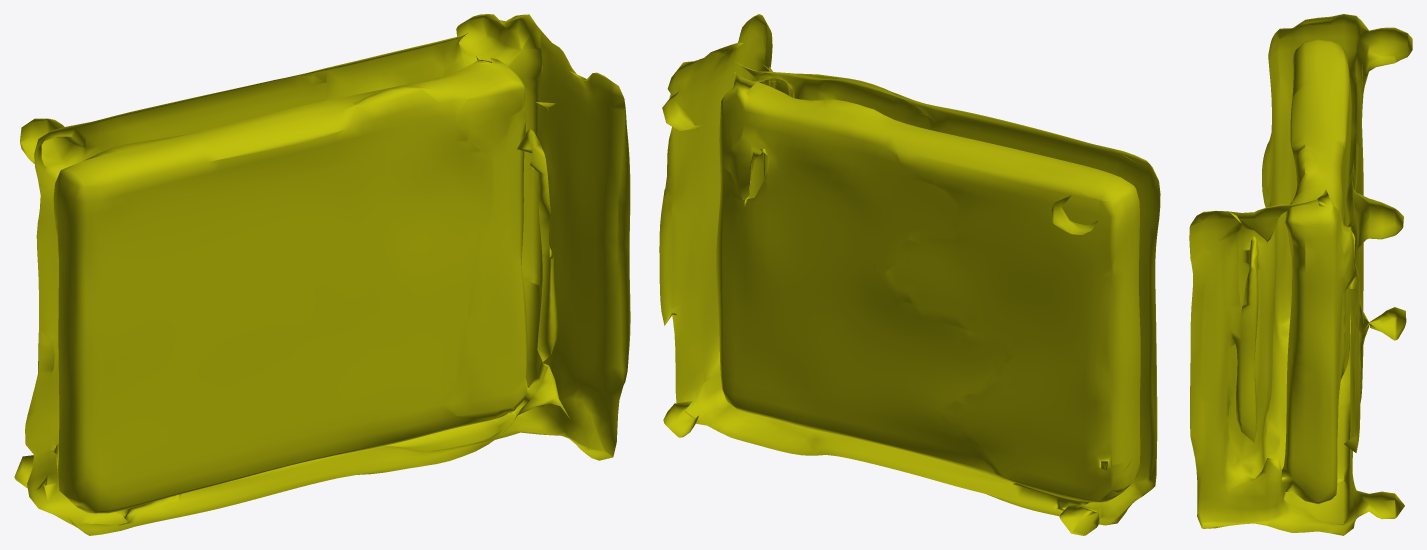
3 renders of one model, left to right at view 1: azimuth 30°, elevation 25°; view 2: azimuth 150°, elevation 25°; view 3: azimuth 270°, elevation 25°, orthographic. The views are drawn at different scales.
Parts seen in each view (by area): view 1: world; view 2: world; view 3: world.
Part boxes in pixels (left/top/right/bottom): world: left=14, top=14, right=630, bottom=535; world: left=659, top=14, right=1160, bottom=535; world: left=1189, top=14, right=1412, bottom=535.
Bounding box in the file's own units: 39.47 × 29.44 × 17.49.
